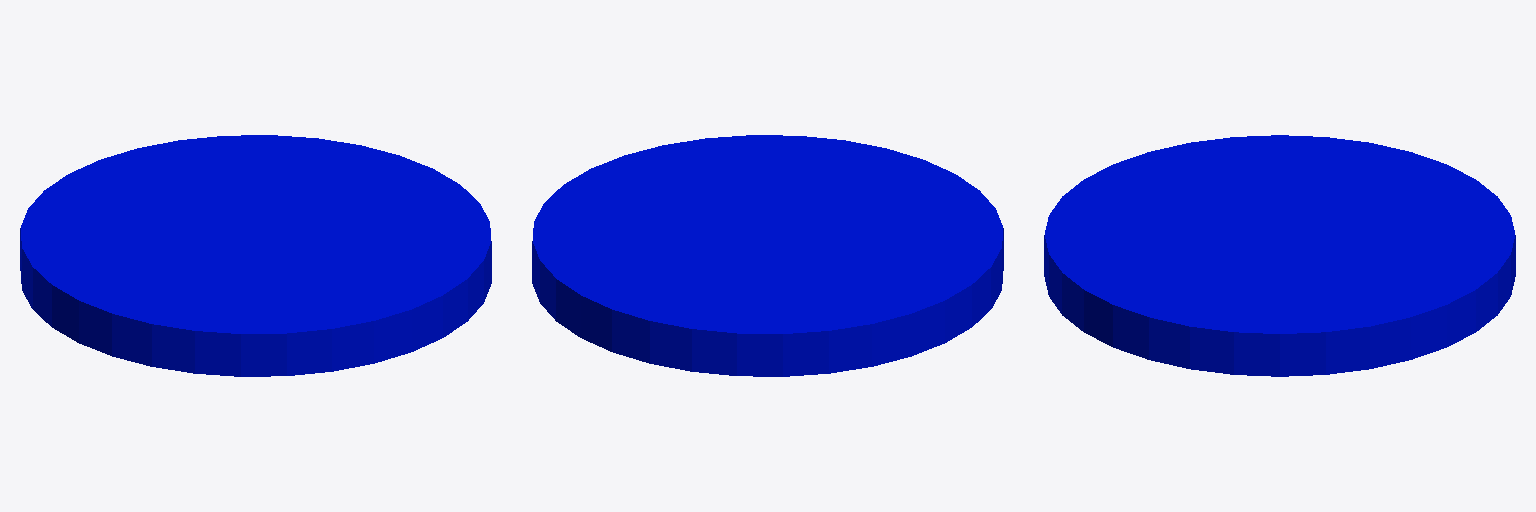
robot.urdf — tilted_hex:
<?xml version="1.0"?>
<robot name="tilted_hex" xmlns:xacro="http://wiki.ros.org/xacro">

    <link name="map"/>  
    <link name="base_link_roll"/>
    <link name="base_link_pitch"/>
    <link name="base_link_yaw"/>
    <link name="x_link"/>
    <link name="y_link"/>
    <link name="z_link"/>

    <joint name="x_joint" type="prismatic">
                <parent link="map"/>
                <child link="x_link"/>
                <axis xyz="1 0 0"/>
                <limit effort="1000.0" lower="-100.0" upper="100.0" velocity="20"/>
    </joint>
    <joint name="y_joint" type="prismatic">
                <parent link="x_link"/>
                <child link="y_link"/>
                <axis xyz="0 1 0"/>
                <limit effort="1000.0" lower="-100.0" upper="100.0" velocity="20"/>
    </joint>
    <joint name="z_joint" type="prismatic">
                <parent link="y_link"/>
                <child link="z_link"/>
                <axis xyz="0 0 1"/>
                <limit effort="1000.0" lower="-100.0" upper="100.0" velocity="20"/>
    </joint>
    <joint name="yaw_joint" type="revolute">
                <parent link="z_link"/>
                <child link="base_link_yaw"/>
                <axis xyz="0 0 1"/>
                <limit effort="10.0" lower="-3.141592653589793" upper="3.141592653589793" velocity="20"/>
    </joint>
    <joint name="pitch_joint" type="revolute">
                <parent link="base_link_yaw"/>
                <child link="base_link_pitch"/>
                <axis xyz="0 1 0"/>
                <limit effort="10.0" lower="-3.141592653589793" upper="3.141592653589793" velocity="20"/>
    </joint>
    <joint name="roll_joint" type="revolute">
        <parent link="base_link_pitch"/>
        <child link="base_link_roll"/>
        <axis xyz="1 0 0"/>
        <limit effort="10.0" lower="-3.141592653589793" upper="3.141592653589793" velocity="20"/>
    </joint>


    <link name='base_link'>
       <inertial>
            <origin rpy="0 0 0" xyz="0 0 0"/>
            <mass value="3.02"/>
            <inertia ixx="0.08" ixy="0.0" ixz="0.0" iyy="0.08" iyz="0.0" izz="0.12"/>
      </inertial>
      <collision>
        <origin rpy="0 0 0" xyz="0 0 -0.03"/>
        <geometry>
          <box size="0.3 0.3 0.09"/>
        </geometry>
      </collision>
      <visual>
        <origin rpy="0 0 3.141592653589793" xyz="0 0 0.0"/>
        <geometry>
          <mesh filename="package://am_description/meshes/hex_x/main_body_remeshed_v3.stl" scale="0.001 0.001 0.001"/>
        </geometry>
        <material  name="darkred">
            <color rgba="0.6 0.0 0.0 1"/>
        </material>
      </visual>
    </link>
    <joint name="base_joint" type="fixed">
        <parent link="base_link_roll"/>
        <child link="base_link"/>
    </joint>

    <link name="imu_link">
        <inertial>
            <origin rpy="0 0 0" xyz="0 0 0"/>
            <mass value="0.015"/>
            <inertia ixx="1e-05" ixy="0.0" ixz="0.0" iyy="1e-05" iyz="0.0" izz="1e-05"/>
        </inertial>
    </link>
     <joint name='imu_joint' type='fixed'>
        <child  link="imu_link"/>
        <parent link="base_link"/>
    </joint>
   

    <link name="gps_link">
        <inertial>
            <origin rpy="0 0 0" xyz="0 0 0"/>
            <mass value="0.015"/>
            <inertia ixx="1e-05" ixy="0.0" ixz="0.0" iyy="1e-05" iyz="0.0" izz="1e-05"/>
        </inertial>
        <visual>
            <origin rpy="0 0 0" xyz="0 0 0"/>
            <geometry>
                <cylinder length="0.002" radius="0.01"/>
            </geometry>
        <material  name="blue">
                <color rgba="0.0 0.1 0.9 1"/>
            </material>
        </visual>
    </link>
     <joint name='gps_joint' type='fixed'>
        <child  link="gps_link"/>
        <parent link="base_link"/>
        <origin rpy="0 0 0" xyz="0 0 0.03"/>
    </joint>
  
    <link name='rotor1'>
       <inertial>
            <origin rpy=" 0 0 0" xyz="0. 0. 0"/>
            <mass value="0.03"/>
            <inertia ixx="9.75e-07" ixy="0.0" ixz="0.0" iyy="0.000273104" iyz="0.0" izz="0.000274004"/>
      </inertial>
      <collision>
        <origin rpy="0 0 0" xyz="0 0 0"/>
        <geometry>
            <cylinder length="0.005" radius="0.128"/>
        </geometry>
      </collision>
      <visual>
        <origin rpy="0 0 0" xyz="0.00187896 -0.242705 -0.0822169"/>
        <geometry>
          <mesh filename="package://am_description/meshes/hex_x/prop_cw_assembly_remeshed_v3.stl" scale="0.001 0.001 0.001"/>
        </geometry>
        <material  name="blue">
            <color rgba="0.0 0.0 1 1"/>
        </material>
      </visual>
    </link>
     <joint name='rotor1_joint' type='revolute'>
        <child  link="rotor1"/>
        <parent link="base_link"/>
        <axis xyz="0 0.0 1"/>
        <limit effort="10" lower="-1e+16" upper="1e+16" velocity="-1"/>
        <origin rpy="0 -0.5236 3.1416" xyz="-0.00187896 -0.242705 0.0822169"/>
    </joint>

    <link name='rotor2'>
       <inertial>
            <origin rpy=" 0 0 0" xyz="0. 0. 0"/>
            <mass value="0.03"/>
            <inertia ixx="9.75e-07" ixy="0.0" ixz="0.0" iyy="0.000273104" iyz="0.0" izz="0.000274004"/>
      </inertial>
      <collision>
        <origin rpy="0 0 0" xyz="0 0 0"/>
        <geometry>
            <cylinder length="0.005" radius="0.128"/>
        </geometry>
      </collision>
      <visual>
        <origin rpy="0 0 0" xyz="-0.211396 -0.119762 -0.082219"/>
        <geometry>
          <mesh filename="package://am_description/meshes/hex_x/prop_ccw_assembly_remeshed_v3.stl" scale="0.001 0.001 0.001"/>
        </geometry>
        <material  name="darkgray">
            <color rgba="0.6 0.6 0.6 1"/>
        </material>
      </visual>
    </link>
     <joint name='rotor2_joint' type='revolute'>
        <child  link="rotor2"/>
        <parent link="base_link"/>
        <axis xyz="0.0 0.0 1"/>
        <limit effort="10" lower="-1e+16" upper="1e+16" velocity="-1"/>
        <origin rpy="0 0.5236 0.0" xyz="-0.00187896 0.242705 0.0822169"/>
    </joint>

    <link name='rotor3'>
       <inertial>
            <origin rpy=" 0 0 0" xyz="0. 0. 0"/>
            <mass value="0.03"/>
            <inertia ixx="9.75e-07" ixy="0.0" ixz="0.0" iyy="0.000273104" iyz="0.0" izz="0.000274004"/>
      </inertial>
      <collision>
        <origin rpy="0 0 0" xyz="0 0 0"/>
        <geometry>
            <cylinder length="0.005" radius="0.128"/>
        </geometry>
      </collision>
      <visual>
        <origin rpy="0 0 0" xyz="0.00187896 -0.242705 -0.0822169"/>
        <geometry>
          <mesh filename="package://am_description/meshes/hex_x/prop_cw_assembly_remeshed_v3.stl" scale="0.001 0.001 0.001"/>
        </geometry>
        <material  name="blue">
            <color rgba="0.0 0.0 1 1"/>
        </material>
      </visual>
    </link>
     <joint name='rotor3_joint' type='revolute'>
        <child  link="rotor3"/>
        <parent link="base_link"/>
        <axis xyz="0 0.0 1"/>
        <limit effort="10" lower="-1e+16" upper="1e+16" velocity="-1"/>
        <origin rpy="0 -0.5236 -1.0472" xyz="0.211396 0.119762 0.082219"/>
    </joint>

    <link name='rotor4'>
       <inertial>
            <origin rpy=" 0 0 0" xyz="0. 0. 0"/>
            <mass value="0.03"/>
            <inertia ixx="9.75e-07" ixy="0.0" ixz="0.0" iyy="0.000273104" iyz="0.0" izz="0.000274004"/>
      </inertial>
      <collision>
        <origin rpy="0 0 0" xyz="0 0 0"/>
        <geometry>
            <cylinder length="0.005" radius="0.128"/>
        </geometry>
      </collision>
      <visual>
        <origin rpy="0 0 0" xyz="-0.211396 -0.119762 -0.082219"/>
        <geometry>
          <mesh filename="package://am_description/meshes/hex_x/prop_ccw_assembly_remeshed_v3.stl" scale="0.001 0.001 0.001"/>
        </geometry>
        <material  name="darkgray">
            <color rgba="0.6 0.6 0.6 1"/>
        </material>
      </visual>
    </link>
     <joint name='rotor4_joint' type='revolute'>
        <child  link="rotor4"/>
        <parent link="base_link"/>
        <axis xyz="0.0 0.0 1"/>
        <limit effort="10" lower="-1e+16" upper="1e+16" velocity="-1"/>
        <origin rpy="0 0.5236 2.0944" xyz="-0.209396 -0.122762 0.082219"/>
    </joint>

    <link name='rotor5'>
       <inertial>
            <origin rpy=" 0 0 0" xyz="0. 0. 0"/>
            <mass value="0.03"/>
            <inertia ixx="9.75e-07" ixy="0.0" ixz="0.0" iyy="0.000273104" iyz="0.0" izz="0.000274004"/>
      </inertial>
      <collision>
        <origin rpy="0 0 0" xyz="0 0 0"/>
        <geometry>
            <cylinder length="0.005" radius="0.128"/>
        </geometry>
      </collision>
      <visual>
        <origin rpy="0 0 0" xyz="-0.211396 -0.119762 -0.082219"/>
        <geometry>
          <mesh filename="package://am_description/meshes/hex_x/prop_ccw_assembly_remeshed_v3.stl" scale="0.001 0.001 0.001"/>
        </geometry>
        <material  name="darkgray">
            <color rgba="0.6 0.6 0.6 1"/>
        </material>
      </visual>
    </link>
     <joint name='rotor5_joint' type='revolute'>
        <child  link="rotor5"/>
        <parent link="base_link"/>
        <axis xyz="0.0 0.0 1"/>
        <limit effort="10" lower="-1e+16" upper="1e+16" velocity="-1"/>
        <origin rpy="0 0.5236 -2.0944" xyz="0.211396 -0.119762 0.082219"/>
    </joint>

    <link name='rotor6'>
       <inertial>
            <origin rpy=" 0 0 0" xyz="0. 0. 0"/>
            <mass value="0.03"/>
            <inertia ixx="9.75e-07" ixy="0.0" ixz="0.0" iyy="0.000273104" iyz="0.0" izz="0.000274004"/>
      </inertial>
      <collision>
        <origin rpy="0 0 0" xyz="0 0 0"/>
        <geometry>
            <cylinder length="0.005" radius="0.128"/>
        </geometry>
      </collision>
      <visual>
        <origin rpy="0 0 0" xyz="0.00187896 -0.242705 -0.0822169"/>
        <geometry>
          <mesh filename="package://am_description/meshes/hex_x/prop_cw_assembly_remeshed_v3.stl" scale="0.001 0.001 0.001"/>
        </geometry>
        <material  name="blue">
            <color rgba="0.0 0.0 1 1"/>
        </material>
      </visual>
    </link>
     <joint name='rotor6_joint' type='revolute'>
        <child  link="rotor6"/>
        <parent link="base_link"/>
        <axis xyz="0 0.0 1"/>
        <limit effort="10" lower="-1e+16" upper="1e+16" velocity="-1"/>
        <origin rpy="0 -0.5236 1.0472" xyz="-0.209396 0.122762 0.082219"/>
    </joint>
</robot>

--- What the picture shows (computed from the rendered views, not written in the file) ---
The picture shows the robot from 3 angles, left to right: view 1: azimuth 30°, elevation 25°; view 2: azimuth 150°, elevation 25°; view 3: azimuth 270°, elevation 25°; orthographic projection.
Model tilted_hex with 16 links and 15 joints (9 revolute, 3 prismatic, 3 fixed), rooted at map, posed every joint at zero.
Visible links, largest first — view 1: gps_link; view 2: gps_link; view 3: gps_link.
Link boxes in pixels (x1=…): gps_link: x1=20, y1=135, x2=491, y2=376; gps_link: x1=532, y1=135, x2=1003, y2=376; gps_link: x1=1044, y1=135, x2=1515, y2=376.
Bounding box of the posed robot: 0.02 × 0.02 × 0.002 m (x, y, z).
0 mesh visuals loaded from 3 distinct referenced files (none loaded); not drawn: 7 (reference not matched to a file when rendering).